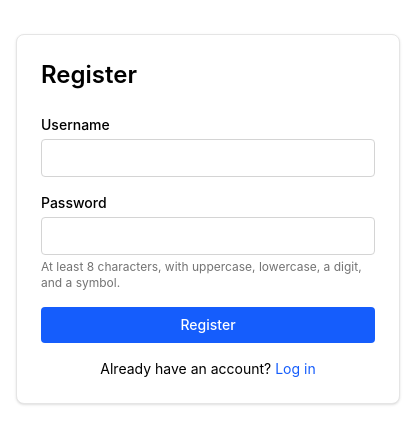
RegisterPage › shows an error message when the username is taken
Type "bob" into the field labelled "Username".
click(208, 158); type("bob")  # box [41,139,375,177]
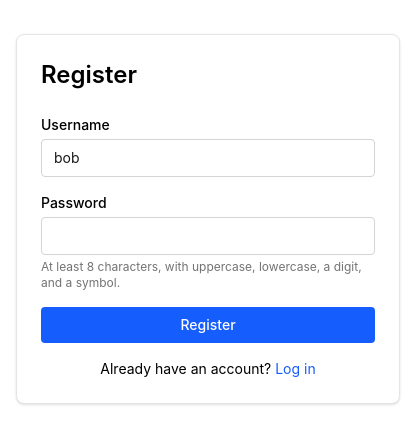
Type "Str0ng!Pass" into the password field labelled "Password".
click(208, 236); type("Str0ng!Pass")  # box [41,217,375,255]
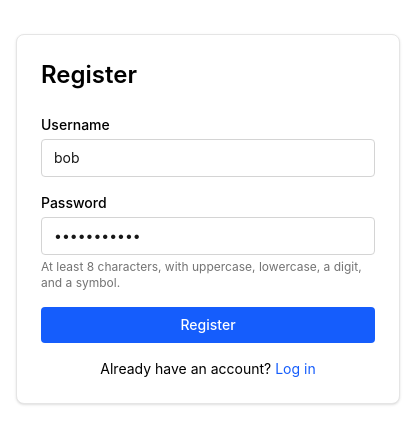
Click the button "Register".
click(208, 325)  # box [41,307,375,343]
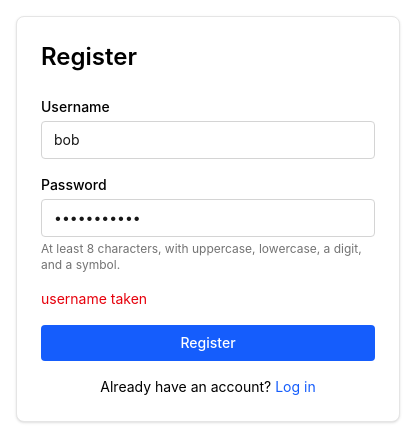
expect the message reads "username taken": met, box [41,290,147,307]
